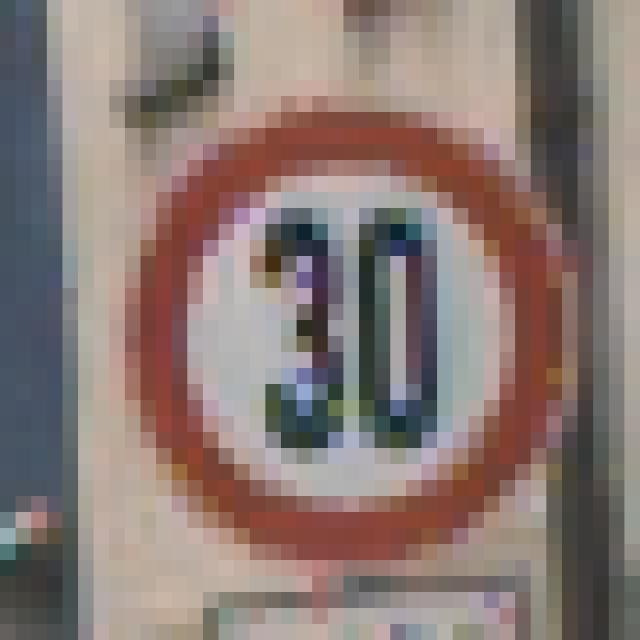Speed Limit -30-: (86, 72, 554, 536)
